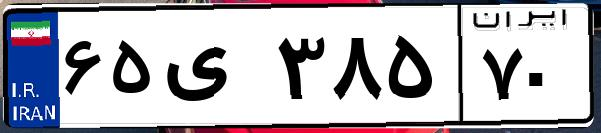0: (525, 38, 570, 115)
3: (270, 28, 330, 110)
5: (385, 28, 445, 110), (110, 28, 158, 98)
6: (57, 26, 110, 100)
7: (475, 38, 525, 113)
8: (330, 28, 385, 110)
ی: (158, 20, 270, 120)
